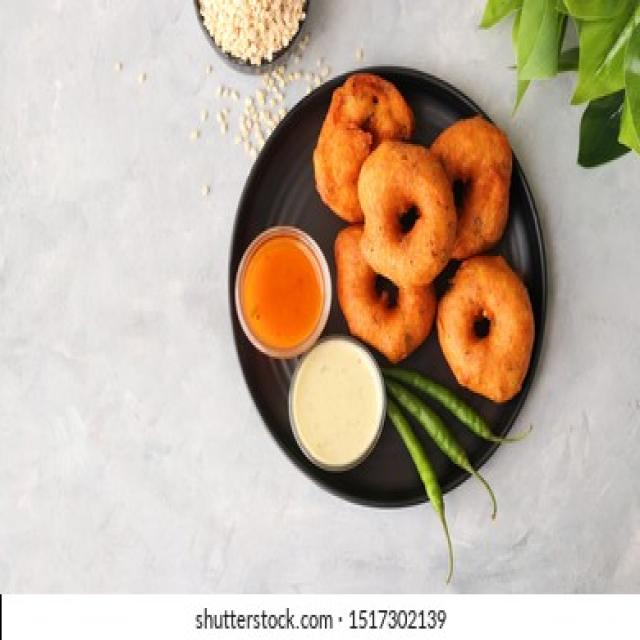MEDU VADA: (313, 73, 412, 222), (359, 142, 456, 288), (438, 256, 533, 400), (336, 226, 435, 361), (430, 114, 510, 258)
